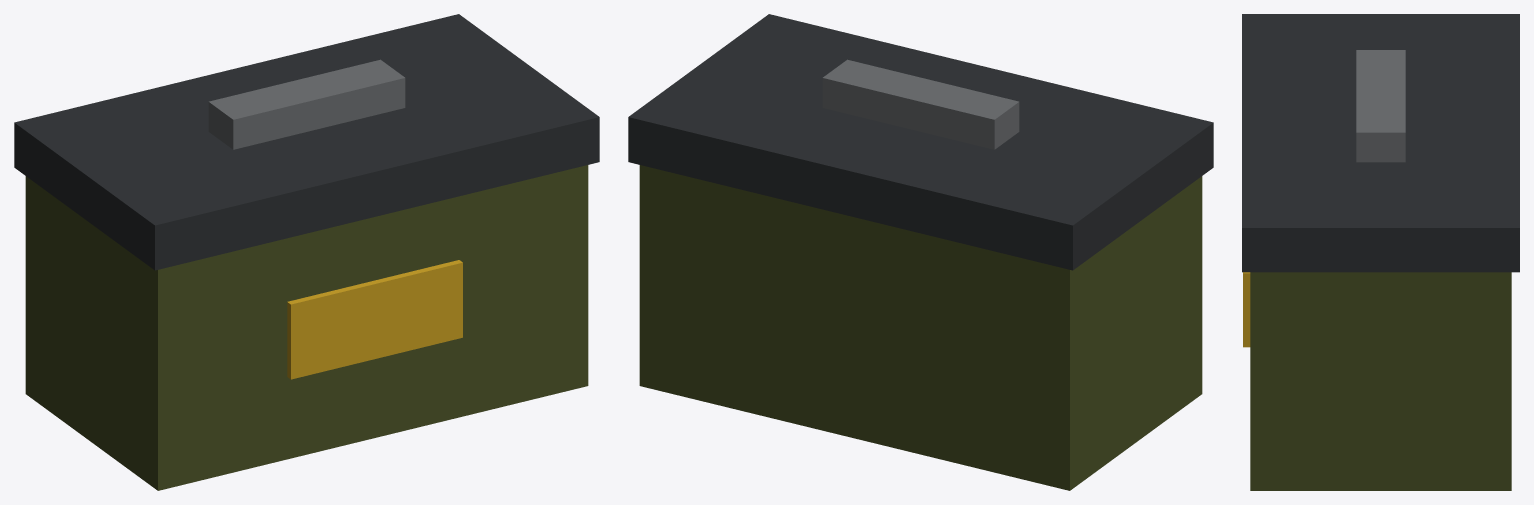
The model's file is Item_Ammo.fbx.
3 renders of one model, left to right at view 1: azimuth 30°, elevation 25°; view 2: azimuth 150°, elevation 25°; view 3: azimuth 270°, elevation 25°, orthographic.
Parts seen in each view (by area): view 1: Item_Ammo; view 2: Item_Ammo; view 3: Item_Ammo.
Boxes of the visible parts, x1,y1,x2,y2 form: Item_Ammo: (14, 14, 599, 490); Item_Ammo: (628, 14, 1213, 490); Item_Ammo: (1242, 14, 1519, 490).
Bounding box in the file's own units: 0.31 × 0.2 × 0.17.
